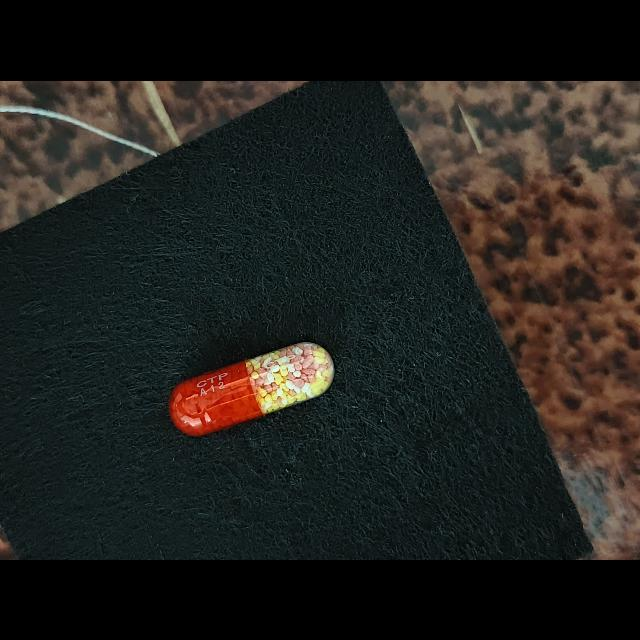Intact Capsule: (170, 341, 335, 436)
